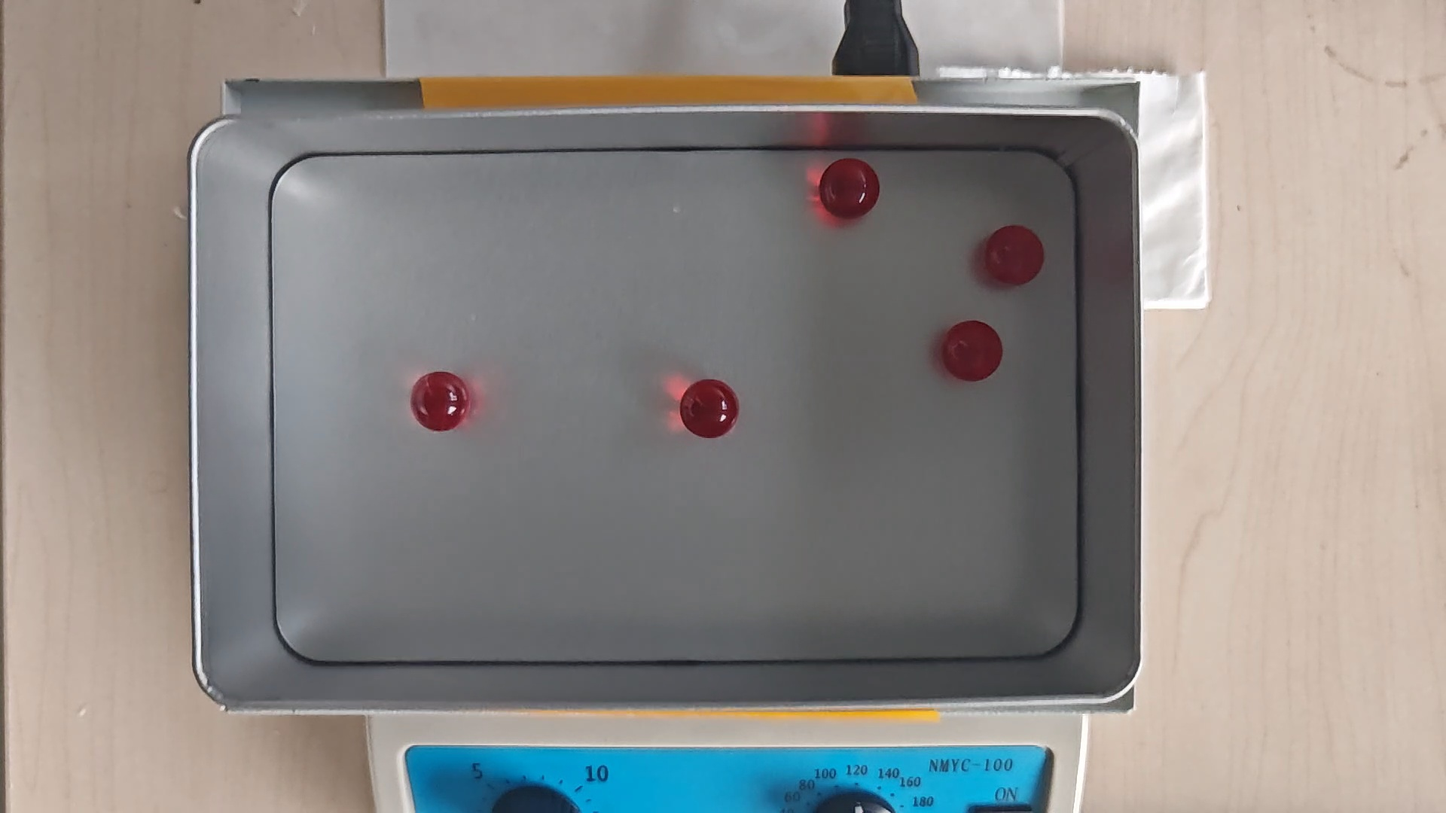ball: (820, 156, 880, 218), (942, 318, 1002, 380), (987, 225, 1045, 287), (410, 372, 470, 431), (679, 378, 738, 438)
container: (267, 148, 1078, 662)
